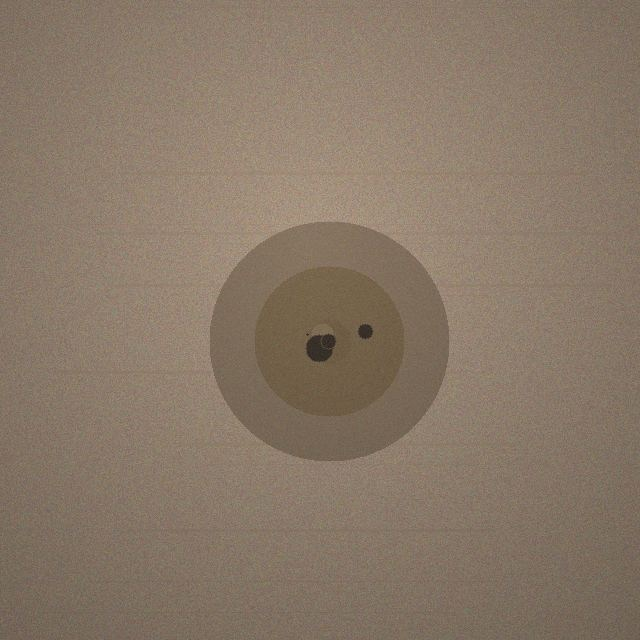shrinkage: (209, 221, 449, 461)
